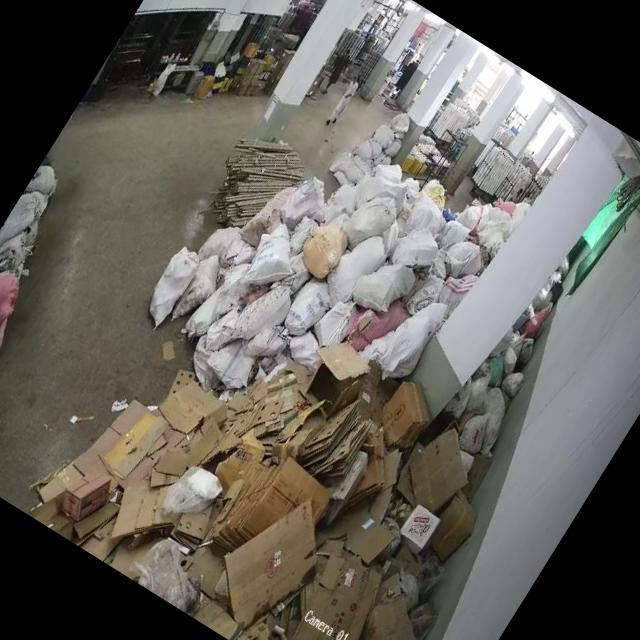person: (326, 73, 365, 127), (319, 46, 355, 96)
